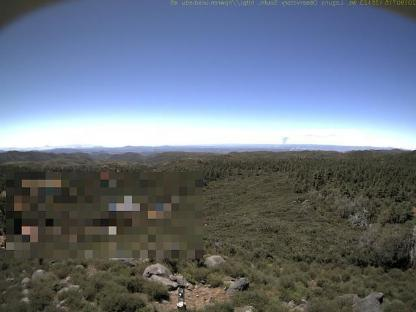smoke: (282, 134, 290, 146)
